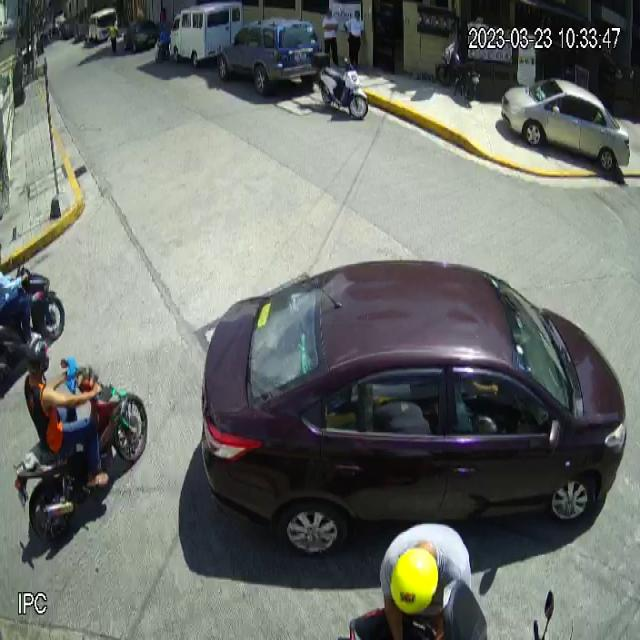Car: (201, 256, 628, 562), (501, 79, 631, 172), (216, 16, 322, 96)
Motorcycle: (12, 355, 148, 548), (311, 51, 368, 121)
Van: (169, 0, 243, 67)
